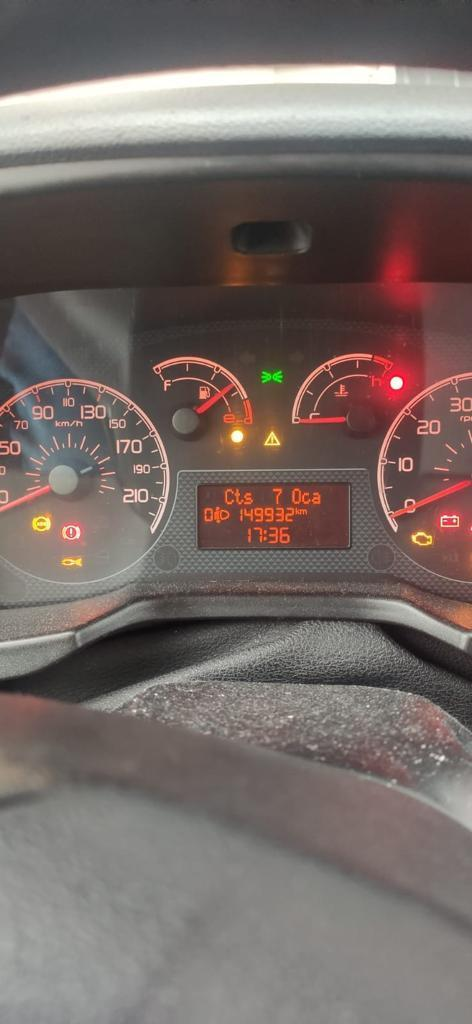0: (203, 506, 212, 521)
1: (245, 525, 251, 543), (238, 506, 242, 522)
2: (285, 506, 294, 521)
3: (268, 526, 277, 543), (274, 506, 284, 521)
4: (243, 506, 252, 521)
6: (278, 525, 290, 543)
7: (271, 485, 282, 503), (252, 525, 262, 543)
9: (253, 506, 263, 522), (264, 506, 273, 521)
X: (223, 487, 234, 505), (291, 487, 301, 504), (234, 487, 243, 505), (311, 490, 321, 504), (243, 491, 253, 504), (301, 491, 310, 504), (299, 507, 306, 515), (263, 528, 267, 540), (295, 506, 299, 514)
odometer: (194, 478, 354, 551)
